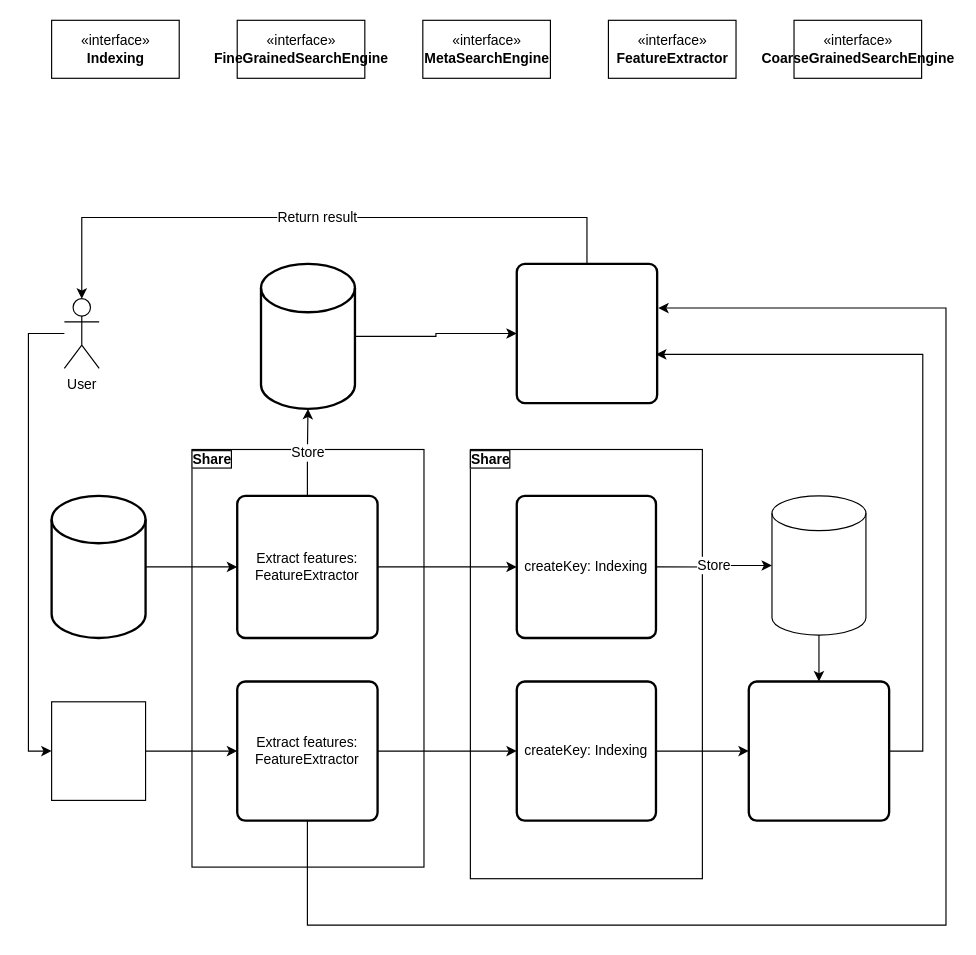
Some shapes in this 976 by 955 pixel diagram are drawn without their labels. The shapes that lost their labels are listed below. From the top down, each one's centre as x and y in pixels, then its label:
At point (307, 335): "Features Database".
At point (586, 333): "retrieve: FineGrainedSearchEngine".
At point (98, 566): "Images Database".
At point (818, 565): "Index Structure".
At point (98, 750): "New Images".
At point (818, 750): "retrieveCandidates: CoarseGrainedSearchEngine".
